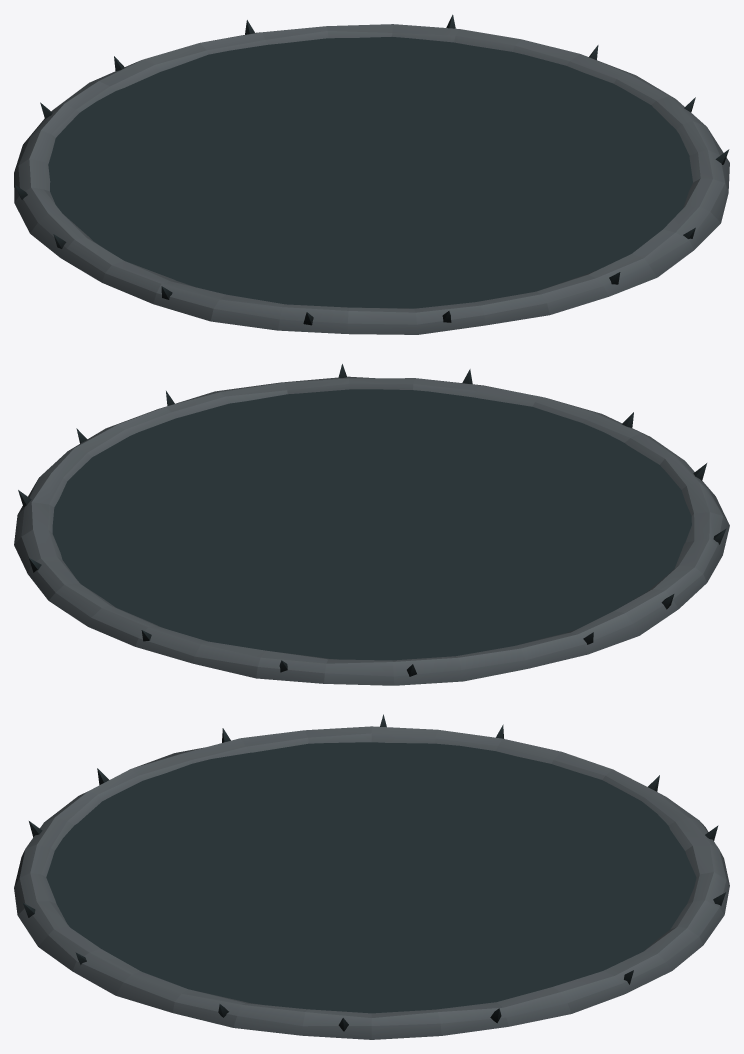
File: glass_pool.glb
3 renders of one model, top to bottom at view 1: azimuth 30°, elevation 25°; view 2: azimuth 150°, elevation 25°; view 3: azimuth 270°, elevation 25°, orthographic.
Parts seen in each view (by area): view 1: glass_pool; view 2: glass_pool; view 3: glass_pool.
Part boxes in pixels (x1,y1,x2,y2): glass_pool: (14,14,729,334); glass_pool: (14,364,729,685); glass_pool: (14,714,729,1039).
Bounding box in the file's own units: 10.2 × 0.3532 × 10.15.
2 materials, 2 textured.
